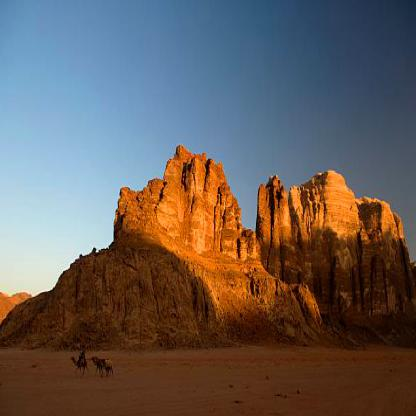Sedimentary_Sandstone: (320, 165, 359, 320), (363, 194, 407, 325), (256, 173, 293, 278), (118, 178, 163, 248), (218, 196, 246, 271), (184, 148, 205, 200)
